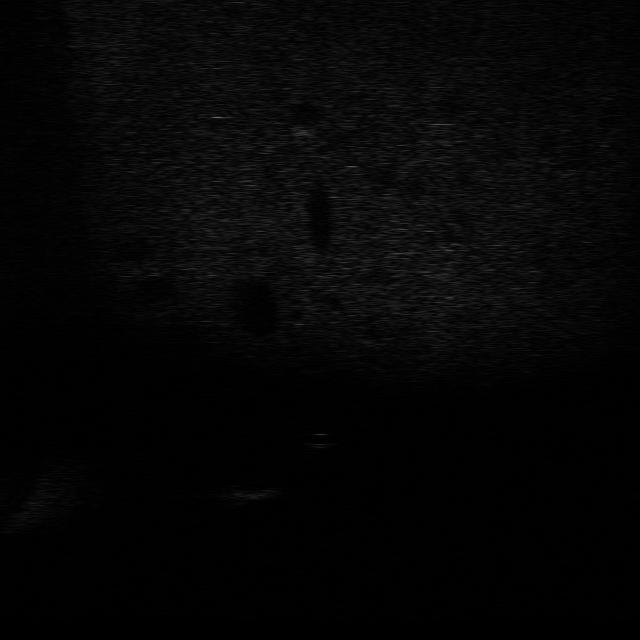ball: (299, 427, 341, 451)
square cage: (216, 474, 286, 512)
